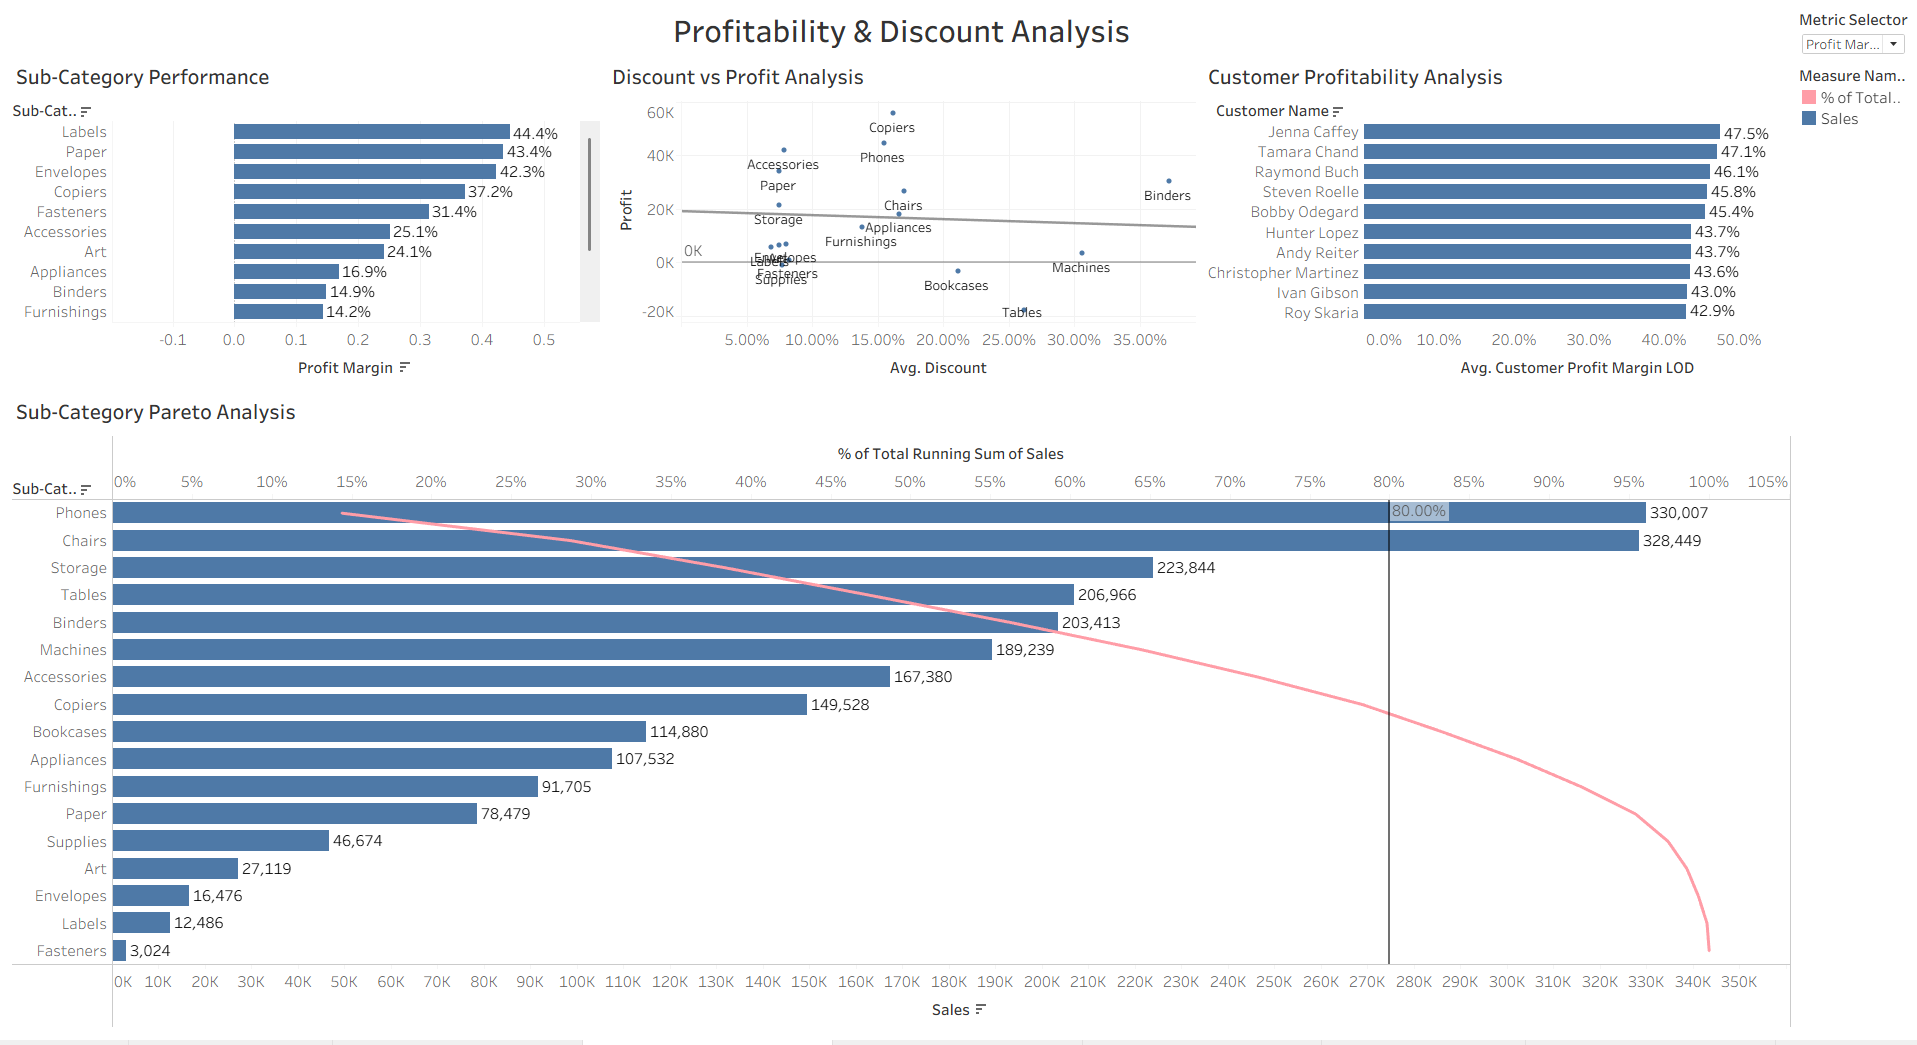

What the dashboard file says about the page in this screenshot:
{"tool":"tableau","page":{"name":"Profitability & Discount Analysis","canvas":[1000,1000],"units":"permille","ordinal":2},"visuals":[{"type":"title","box":[4.8,9.4,919.7,57.6]},{"type":"parameter","param":"[Parameters].[Parameter 1]","box":[924.6,9.4,70.6,65.8]},{"type":"worksheet","title":"Sub-Category Performance","mark":"Automatic","rows":["Sub-Category"],"cols":["Calculation_0062712724381696"],"box":[4.8,67,306.6,393.7]},{"type":"worksheet","title":"Discount vs Profit Analysis","mark":"Circle","rows":["Profit"],"cols":["Discount"],"box":[311.4,67,306.6,393.7]},{"type":"worksheet","title":"Customer Profitability Analysis","mark":"Automatic","rows":["Customer Name"],"cols":["Calculation_1049525052018689"],"box":[618,67,306.6,393.7]},{"type":"legend","title":"Sub-Category Pareto Analysis","param":"[federated.07t9vp60klim5p0znt99z1xn62fo].[:Measure Names]","box":[924.6,75.2,70.6,84.6]},{"type":"worksheet","title":"Sub-Category Pareto Analysis","mark":"Bar","rows":["Sub-Category"],"cols":["Sales"],"box":[4.8,460.6,919.7,530]}]}

Visuals, with their boxes on the dashboard's canvas, which has no fixed pixel size, in thousandths of its width and height (x1, y1, x2, y2). These are canvas units, not pixel positions in the 1917x1045 screenshot, which may show the page scaled, cropped or inside an application window:
title: box(5, 9, 924, 67)
parameter: box(925, 9, 995, 75)
"Sub-Category Performance" worksheet: box(5, 67, 311, 461)
"Discount vs Profit Analysis" worksheet (Circle marks): box(311, 67, 618, 461)
"Customer Profitability Analysis" worksheet: box(618, 67, 925, 461)
"Sub-Category Pareto Analysis" legend: box(925, 75, 995, 160)
"Sub-Category Pareto Analysis" worksheet (Bar marks): box(5, 461, 924, 991)
